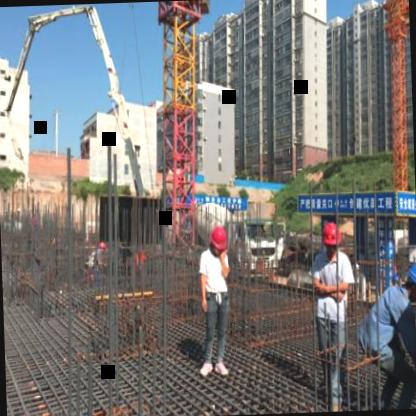helmet: (320, 220, 342, 260), (401, 259, 416, 306), (206, 224, 228, 256)
